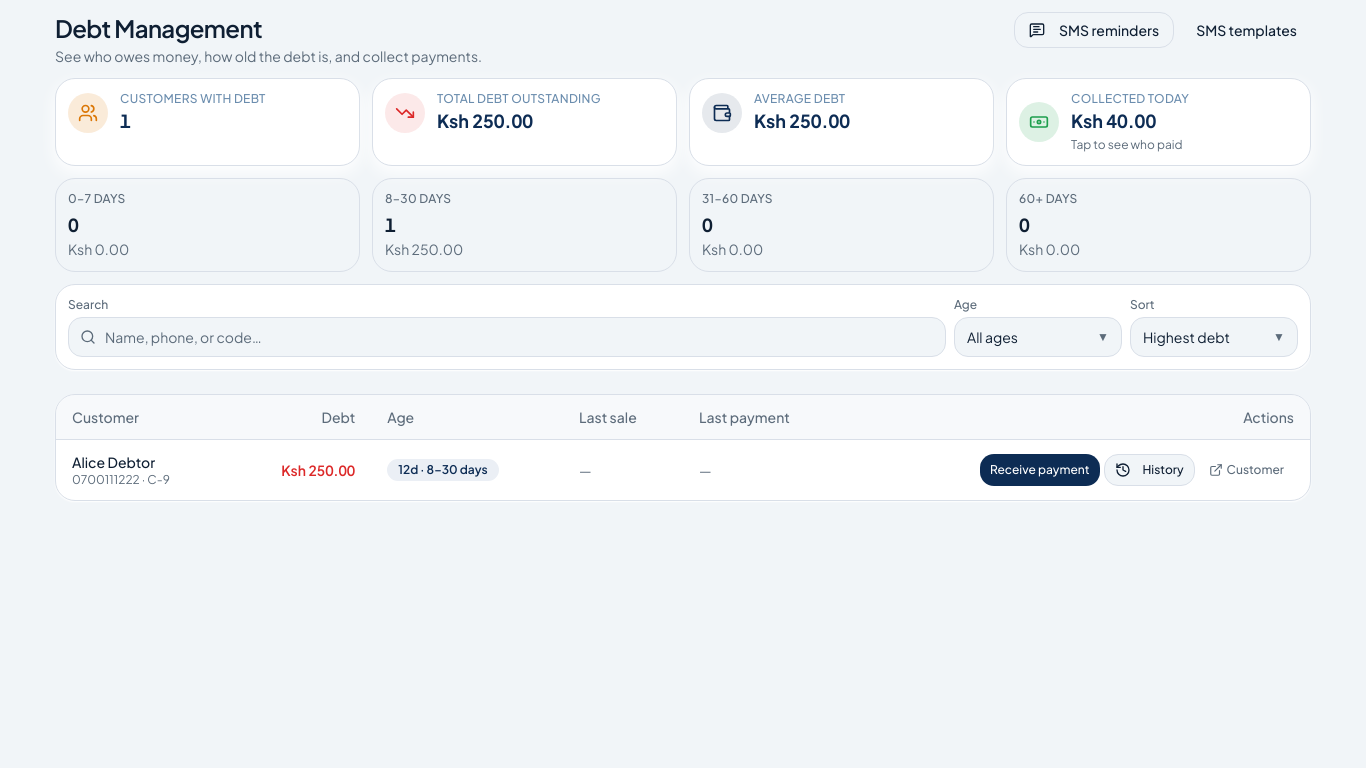
Scenario: DebtManagementPage › opens daily collections from the collected today card
Expected: the text "Alice Debtor" is shown, [72, 452, 155, 470]
Click the button "Collected today Ksh 40.00 Tap to see who paid". click: (1158, 122)
box: [1007, 79, 1310, 165]
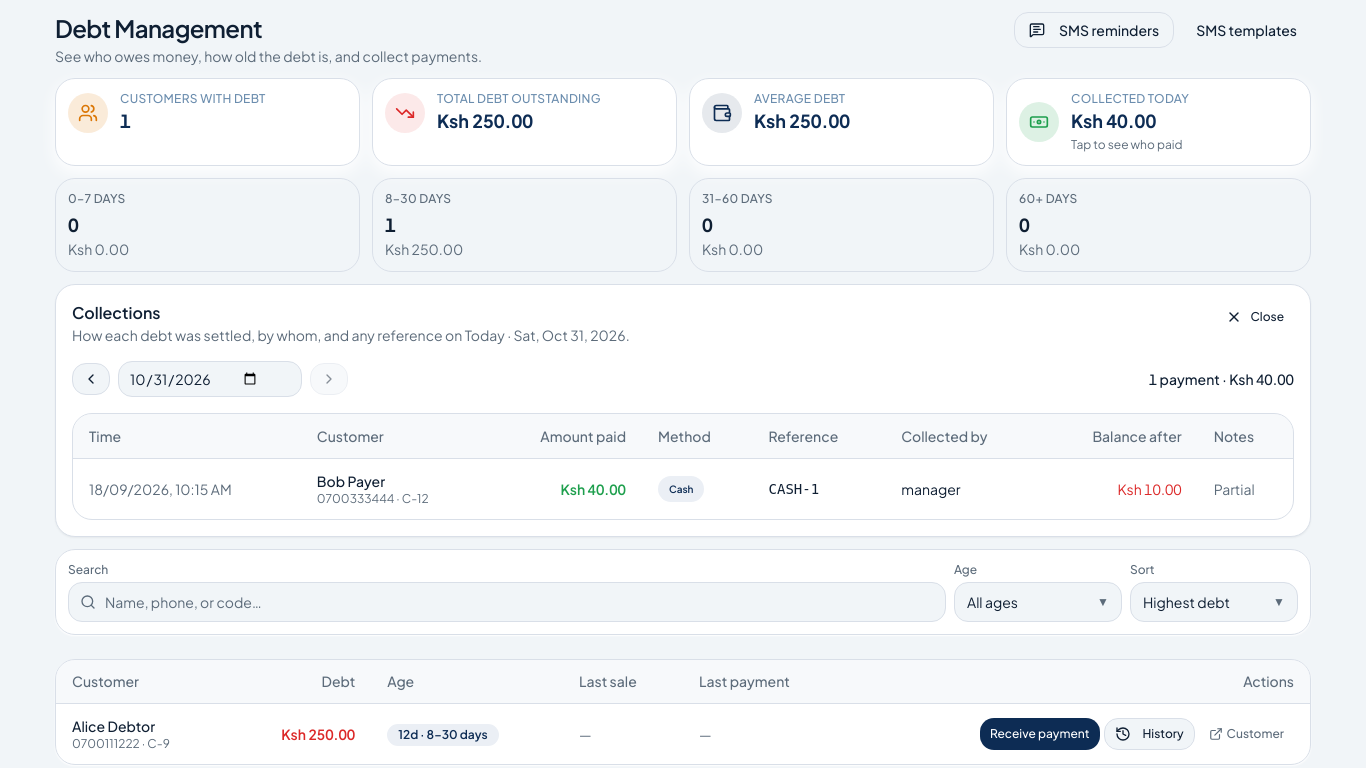
Expected: the heading "Collections" is shown, [72, 302, 160, 323]
Expected: the link "Bob Payer" is shown, [317, 472, 385, 490]
Expected: the column heading "Amount paid" is shown, [489, 414, 642, 458]
